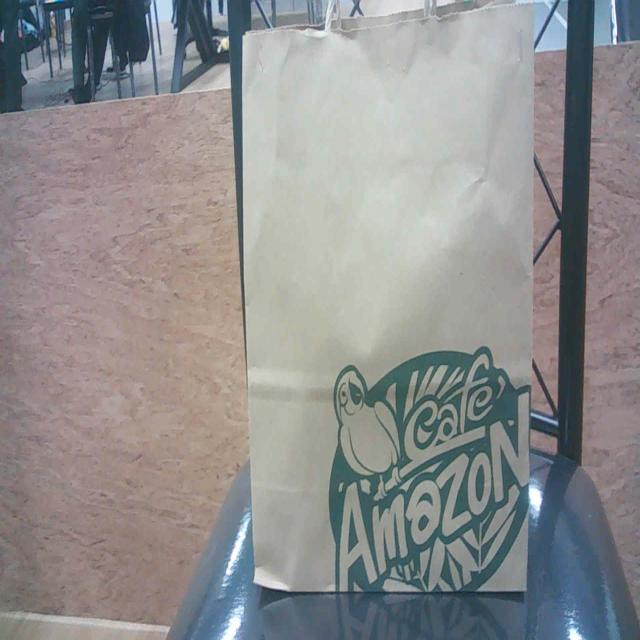bag: (240, 24, 536, 600)
